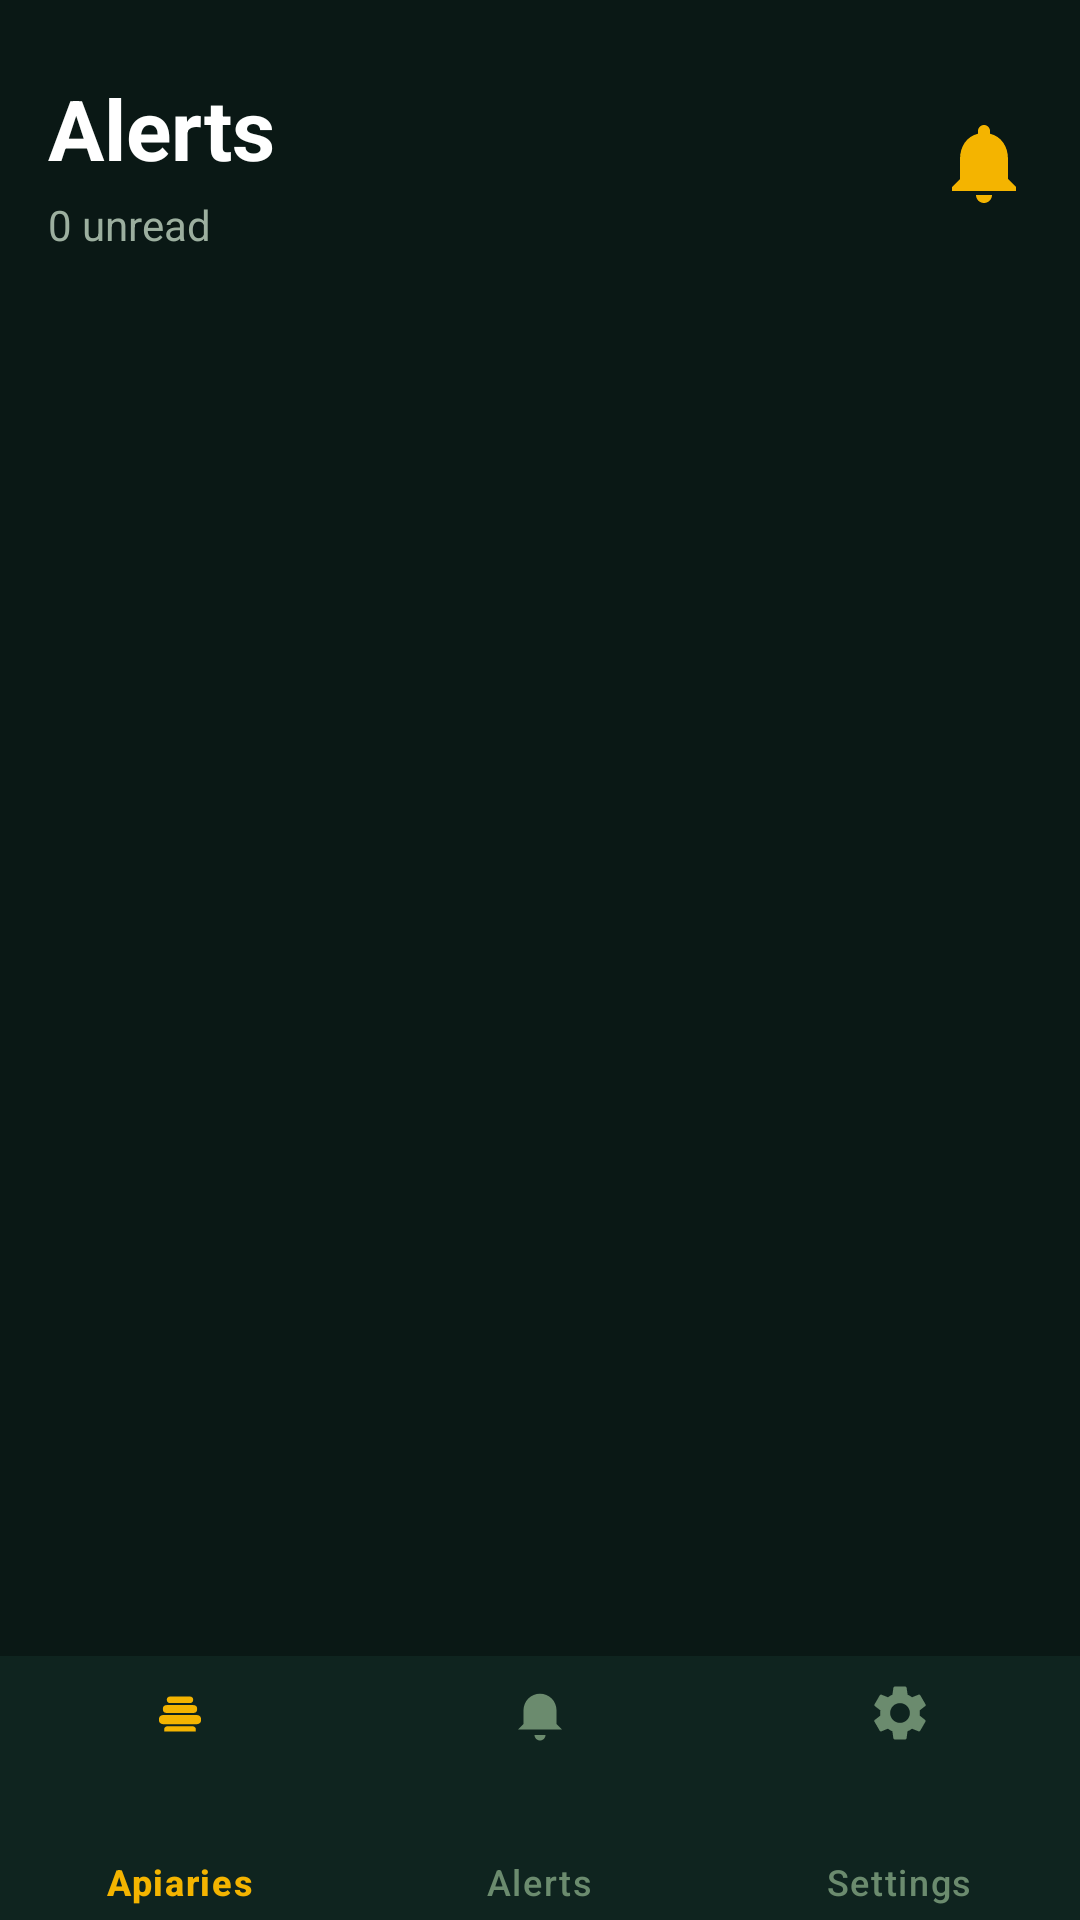

Where to tap for icons on this 1080 x 1920 app screen, as [x,y]:
notifications: [984,164]
